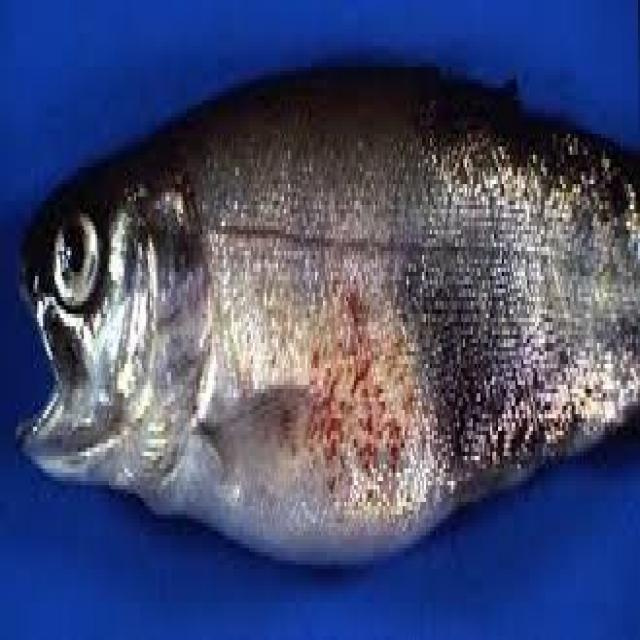EUS Disease: (13, 61, 638, 555), (227, 223, 576, 568)
